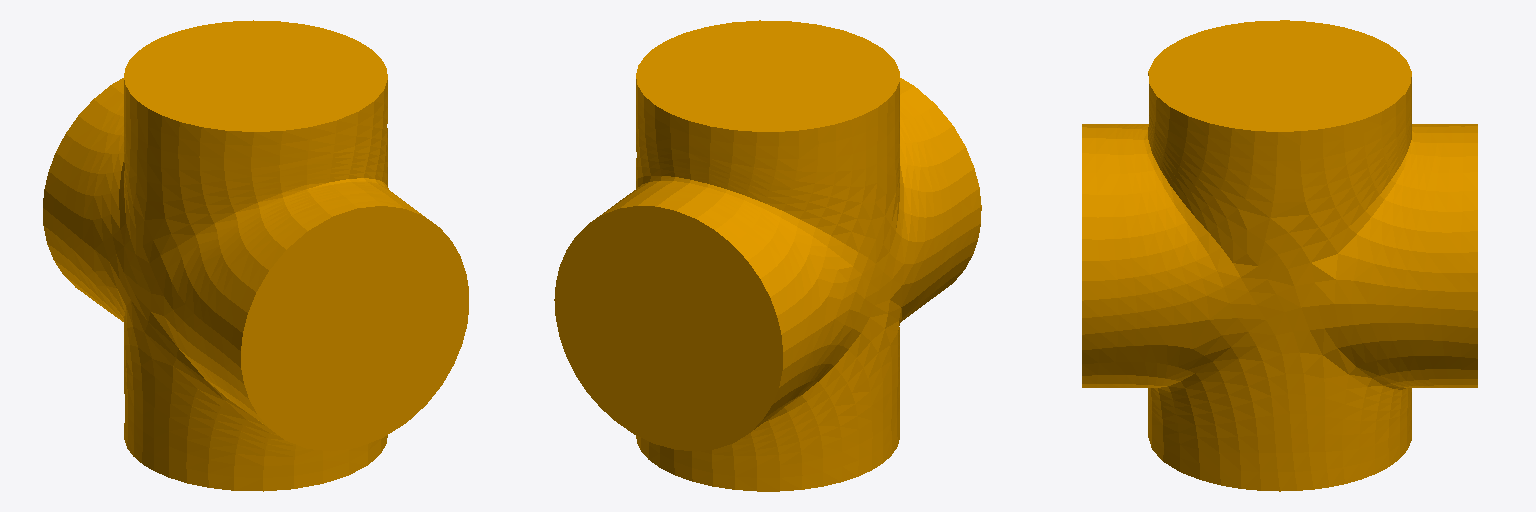
The robot description file, URDF, robot "object":
<robot name="object">
  <link name="object">
    <visual>
      <origin xyz="0 0 0"/>
      <geometry>
        <mesh filename="visual.obj" scale="1 1 1"/>
      </geometry>
    </visual>
    <collision>
      <origin xyz="0 0 0"/>
      <geometry>
        <mesh filename="visual.obj" scale="1 1 1"/>
      </geometry>
    </collision>
    <inertial>
      <mass value="0.05"/>
      <inertia ixx="6.047044040878397e-05" iyy="4.3932887568657065e-05" izz="4.393801255198981e-05" ixy="5.3472065770711725e-09" ixz="4.713406853155535e-09" iyz="4.898691242694573e-09"/>
    </inertial>
  </link>
</robot>

--- What the picture shows (computed from the rendered views, not written in the file) ---
Views: 3 orthographic renders of the robot side by side, from view 1: azimuth 30°, elevation 25°; view 2: azimuth 150°, elevation 25°; view 3: azimuth 270°, elevation 25°.
Robot: object — 1 links, 0 joints (none); root link object; default pose: all joints at 0.
Visible links, largest first — view 1: object; view 2: object; view 3: object.
Link boxes in pixels (bbox=[...]): object: bbox=[43, 20, 468, 491]; object: bbox=[554, 20, 981, 491]; object: bbox=[1082, 20, 1477, 491].
Bounding box of the posed robot: 0.064 × 0.096 × 0.096 m (x, y, z).
Meshes: 1 distinct files referenced, 1 mesh visuals loaded (1 OBJ).
